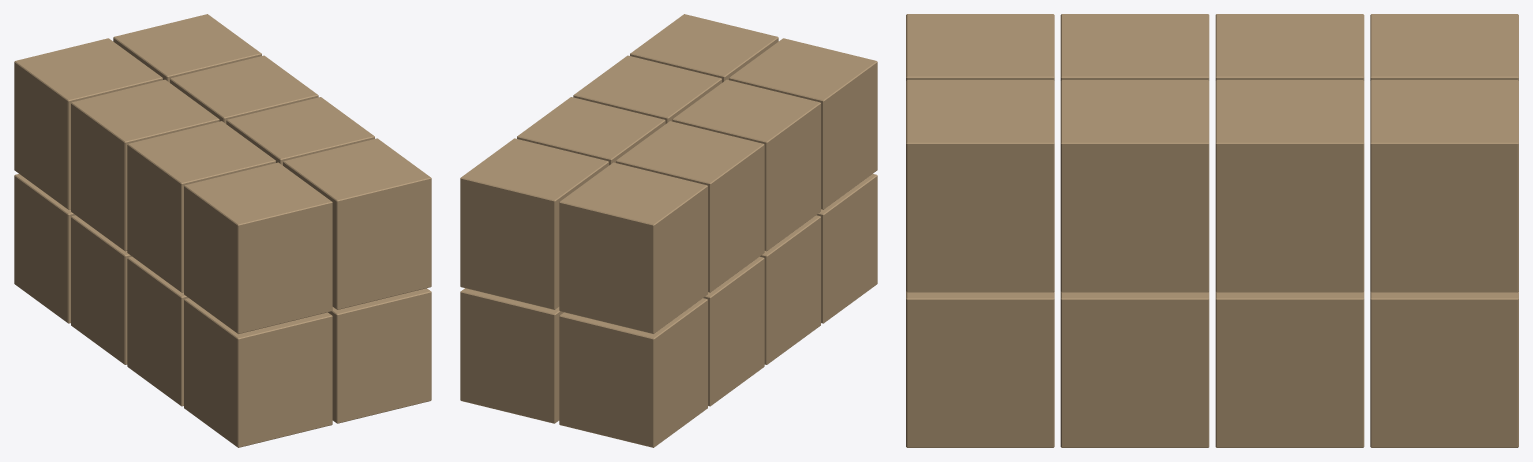
File: crate_stack_fit.glb
3 renders of one model, left to right at view 1: azimuth 30°, elevation 25°; view 2: azimuth 150°, elevation 25°; view 3: azimuth 270°, elevation 25°, orthographic. The views are drawn at different scales.
Visible parts, largest first — view 1: crate_stack_fit; view 2: crate_stack_fit; view 3: crate_stack_fit.
Part boxes in pixels (x1,y1,x2,y2): crate_stack_fit: [14, 14, 431, 447]; crate_stack_fit: [460, 14, 877, 447]; crate_stack_fit: [906, 14, 1518, 447].
Size of the model in its own units: 2 by 2.2 by 4.
